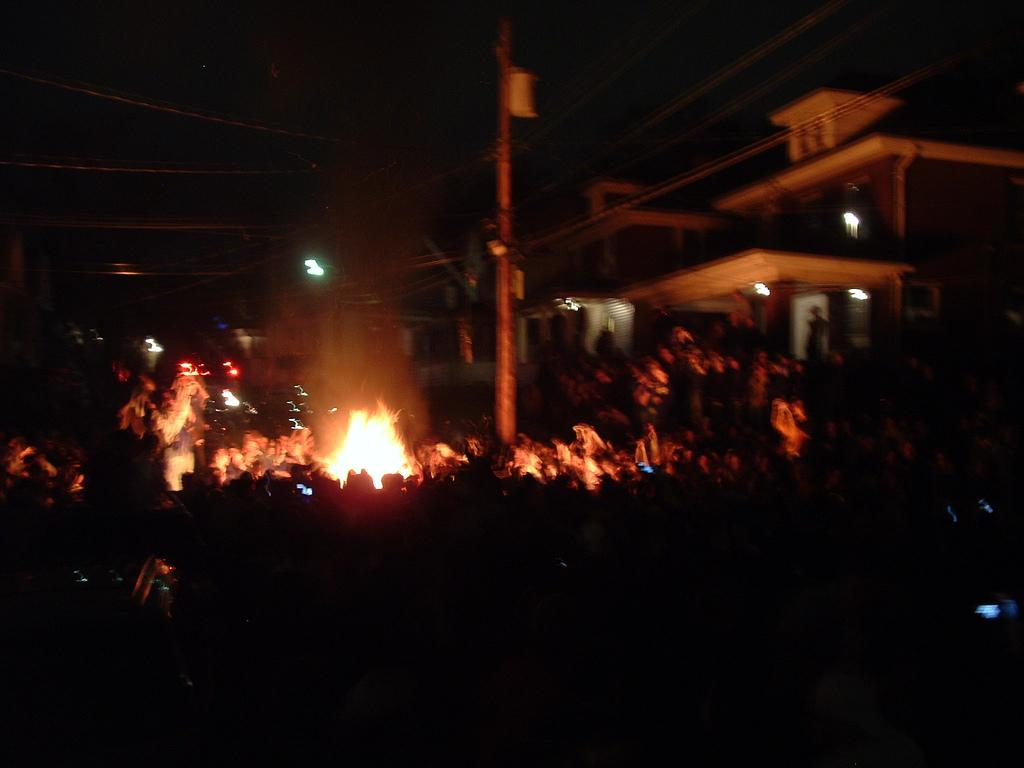fire: (308, 406, 416, 482)
